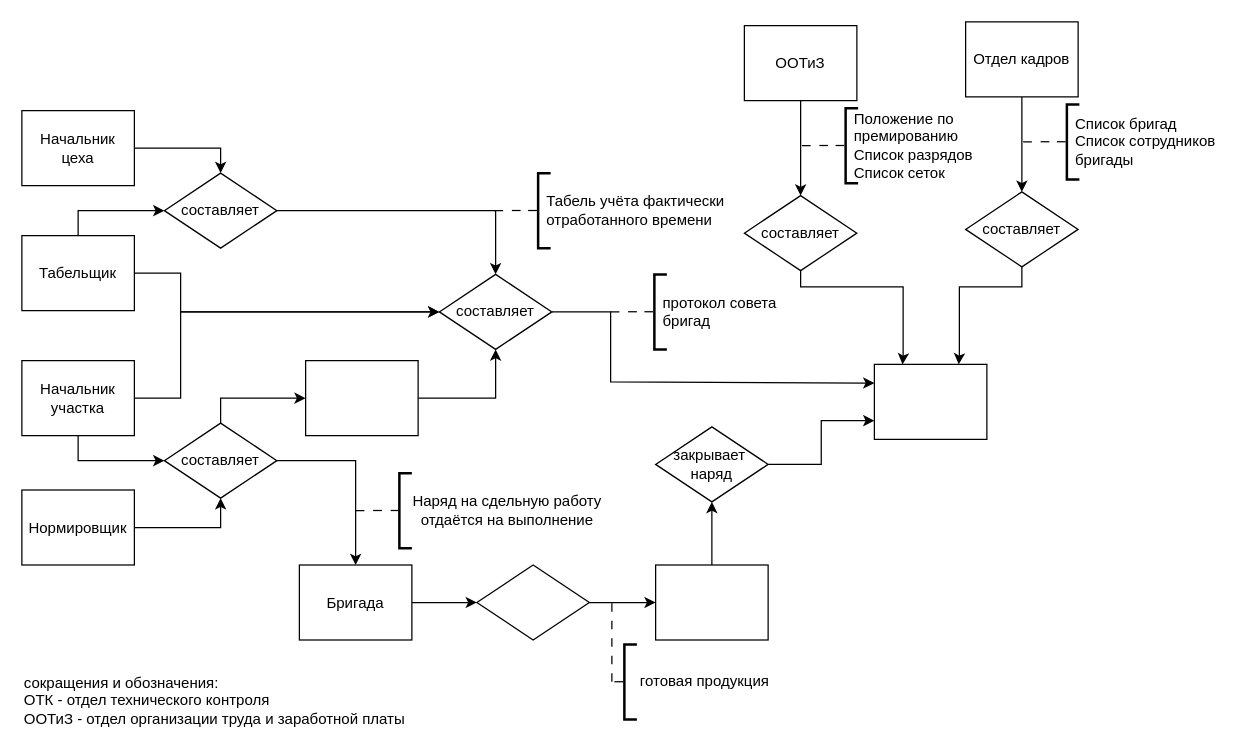
The diagram is 1246 pixels wide and 750 high, and some of its shapes have lost their labels. Each missing label, with the centre of its shape:
"Бригадир" goes at [361,397].
"Бухгалтер" goes at [930,401].
"ОТК" goes at [711,602].
"сдаёт" goes at [532,602].
